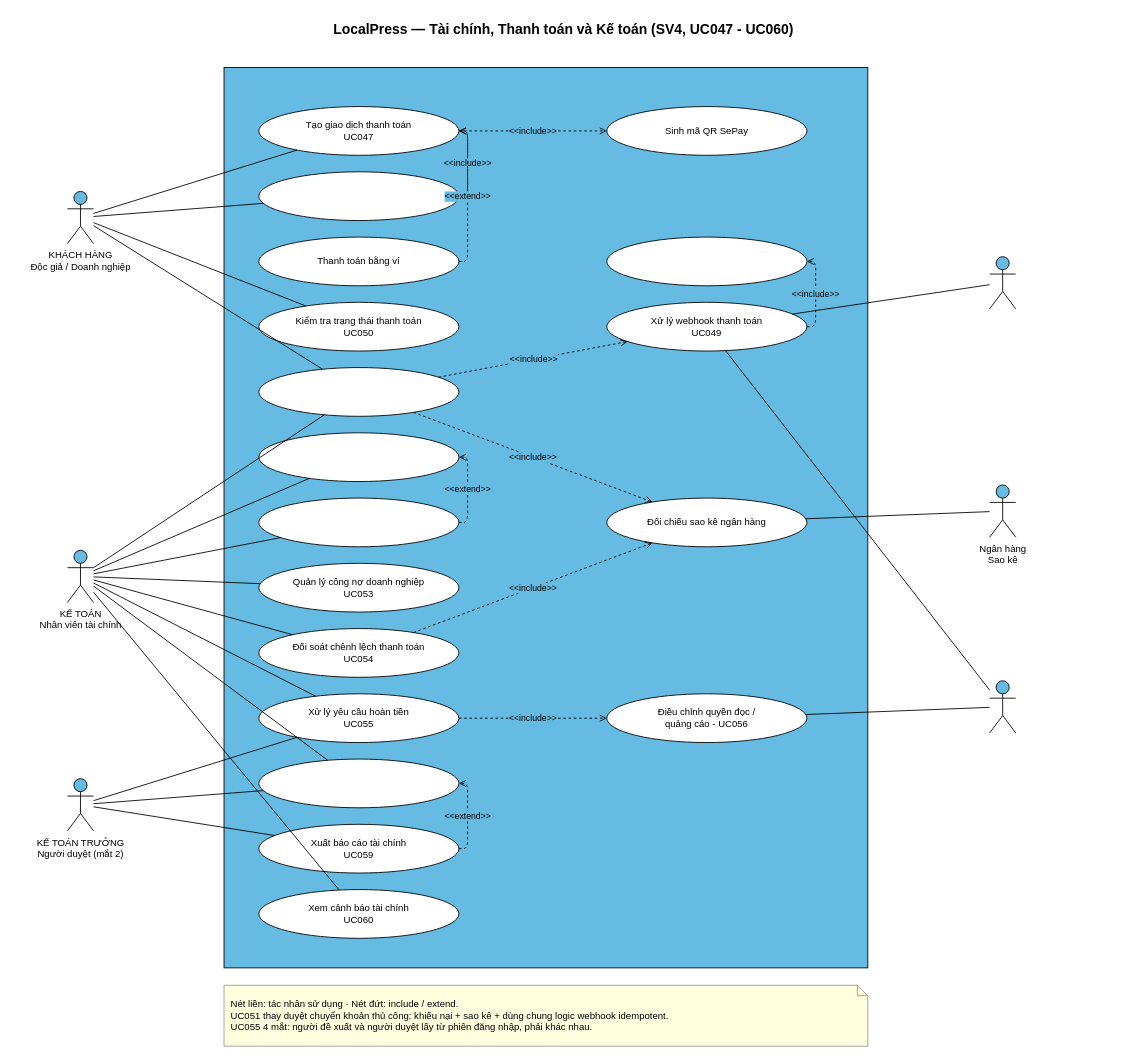
This 1126x1061 diagram has some shape labels left out. Here are the shapes that lost their labels. From the top down, the box of each, then its label:
(258, 171, 459, 221): Nạp tiền vào ví
(606, 236, 807, 286): Xác minh kết quả thanh toán UC048
(989, 256, 1016, 309): Cổng thanh toán SePay
(258, 367, 459, 416): Xử lý khiếu nại thanh toán chưa ghi nhận - UC051
(258, 432, 459, 482): Xem sổ quỹ UC058
(258, 497, 459, 547): Xuất chứng từ tài chính UC057
(223, 67, 868, 968): Hệ thống LocalPress
(989, 680, 1016, 733): Module SV1 / SV3 Payment / RefundCompletedEvent
(258, 758, 459, 808): Xem dashboard dòng tiền UC052
